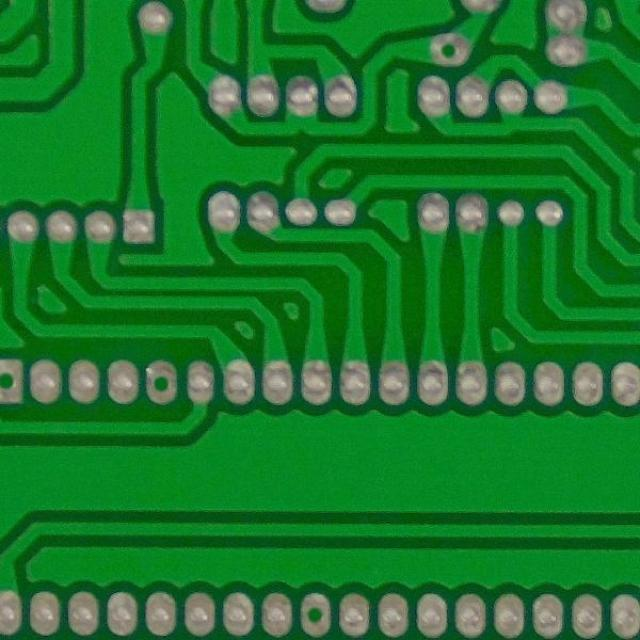Missing_Hole: (138, 359, 184, 406), (294, 591, 337, 638), (426, 30, 476, 70), (0, 356, 29, 409)
